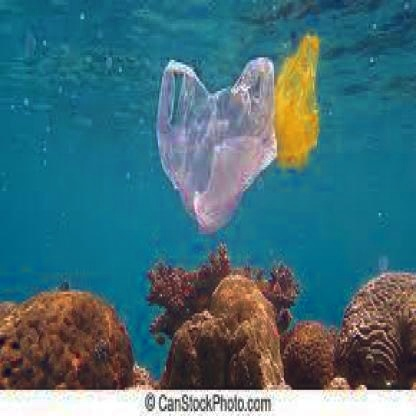pbag: (148, 48, 280, 237), (271, 26, 321, 174)
